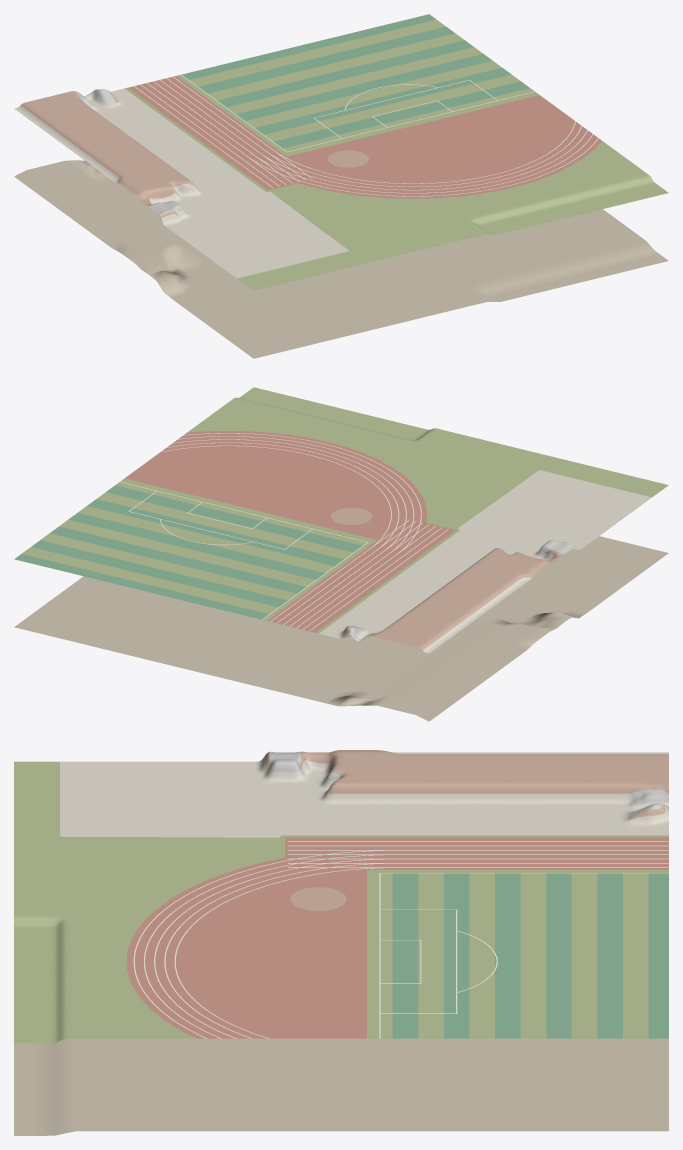
The picture shows the model from 3 angles, top to bottom: view 1: azimuth 30°, elevation 25°; view 2: azimuth 150°, elevation 25°; view 3: azimuth 270°, elevation 25°; orthographic projection. The views are drawn at different scales.
Parts seen in each view (by area): view 1: s_1_-4__soil, s_1_-4__grass, s_1_-4__red_court, s_1_-4__paving, s_1_-4__green_court, s_1_-4__brick_paving, s_1_-4__white_marking, s_1_-4__stone_paving; view 2: s_1_-4__soil, s_1_-4__grass, s_1_-4__red_court, s_1_-4__paving, s_1_-4__green_court, s_1_-4__brick_paving, s_1_-4__white_marking; view 3: s_1_-4__grass, s_1_-4__soil, s_1_-4__red_court, s_1_-4__paving, s_1_-4__green_court, s_1_-4__brick_paving, s_1_-4__white_marking, s_1_-4__stone_paving.
Part boxes in pixels (left/top/right/bottom): s_1_-4__soil: left=14, top=160, right=668, bottom=358; s_1_-4__grass: left=124, top=19, right=668, bottom=290; s_1_-4__red_court: left=128, top=76, right=601, bottom=198; s_1_-4__paving: left=14, top=88, right=348, bottom=278; s_1_-4__green_court: left=181, top=14, right=529, bottom=148; s_1_-4__brick_paving: left=20, top=90, right=368, bottom=217; s_1_-4__white_marking: left=134, top=74, right=598, bottom=196; s_1_-4__stone_paving: left=76, top=89, right=184, bottom=214; s_1_-4__soil: left=14, top=536, right=668, bottom=721; s_1_-4__grass: left=22, top=387, right=668, bottom=633; s_1_-4__red_court: left=125, top=431, right=455, bottom=632; s_1_-4__paving: left=319, top=470, right=651, bottom=653; s_1_-4__green_court: left=14, top=485, right=362, bottom=619; s_1_-4__brick_paving: left=331, top=507, right=565, bottom=650; s_1_-4__white_marking: left=120, top=433, right=448, bottom=631; s_1_-4__grass: left=14, top=761, right=668, bottom=1043; s_1_-4__soil: left=14, top=1038, right=668, bottom=1135; s_1_-4__red_court: left=126, top=837, right=668, bottom=1038; s_1_-4__paving: left=60, top=751, right=668, bottom=837; s_1_-4__green_court: left=392, top=873, right=668, bottom=1038; s_1_-4__brick_paving: left=265, top=750, right=668, bottom=910; s_1_-4__white_marking: left=133, top=841, right=668, bottom=1038; s_1_-4__stone_paving: left=270, top=751, right=668, bottom=817.
Bounding box in the file's own units: 128 × 24.01 × 128.
